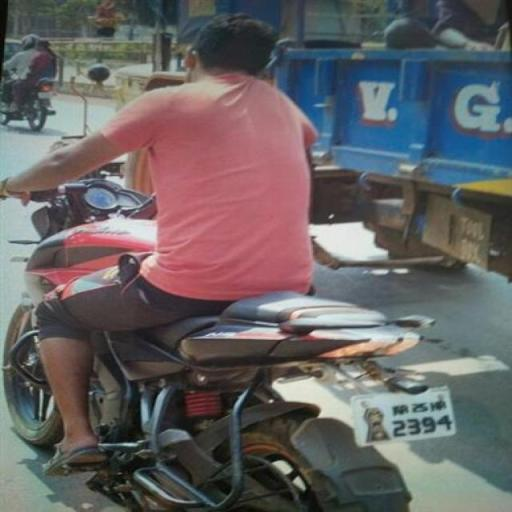using mobile: (262, 50, 284, 84)
